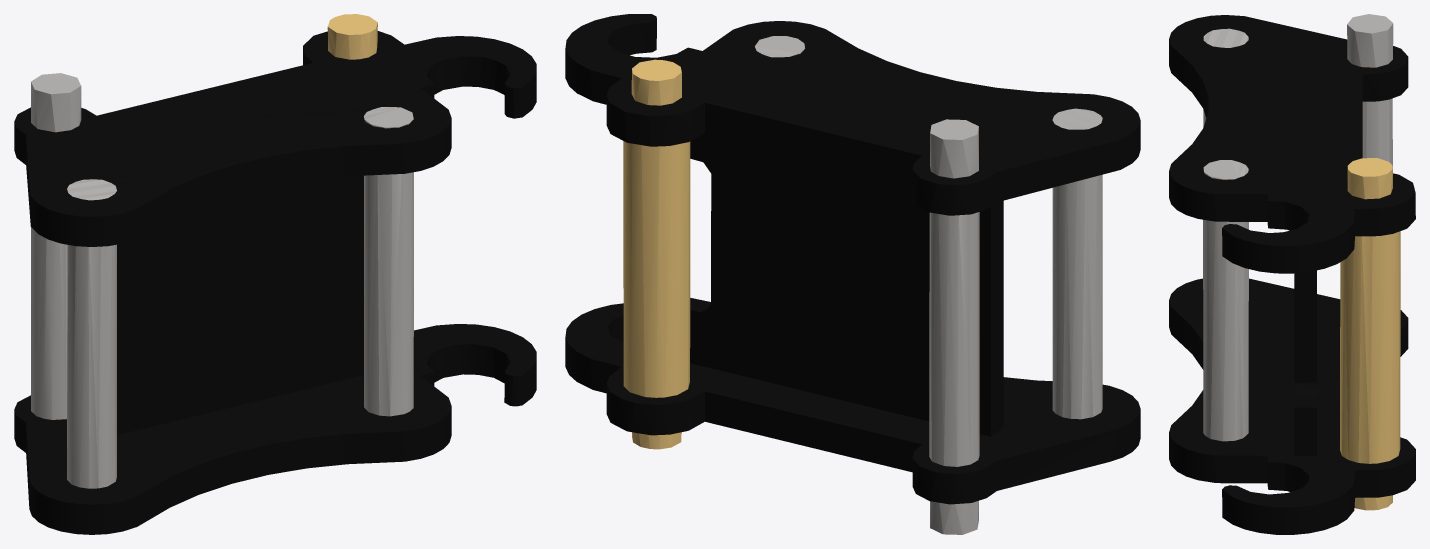
Rendered from tool_body_visuals_Mesh.obj.
3 renders of one model, left to right at view 1: azimuth 30°, elevation 25°; view 2: azimuth 150°, elevation 25°; view 3: azimuth 270°, elevation 25°, orthographic. The views are drawn at different scales.
Parts seen in each view (by area): view 1: toolbody_2; view 2: toolbody_2; view 3: toolbody_2.
Part boxes in pixels (left/top/right/bottom): toolbody_2: left=14, top=14, right=536, bottom=534; toolbody_2: left=565, top=14, right=1140, bottom=534; toolbody_2: left=1169, top=14, right=1415, bottom=534.
Bounding box in the file's own units: 0.0721 × 0.052 × 0.0325.
